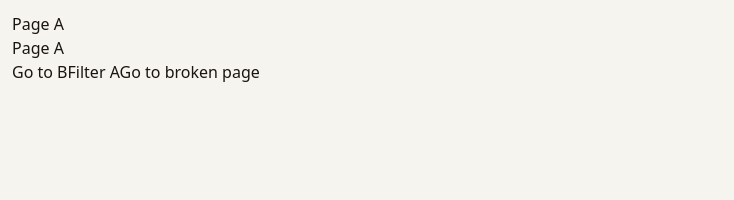
shows a recoverable message when a page crashes and keeps the header
The width and height of the screenshot is (734, 200).
Click the link "Go to broken page" at (190, 72), box [120,61,260,83]
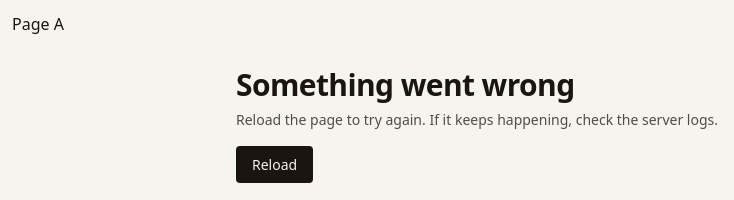
Expected: the navigation bar named "Main" is shown, [12,13,64,35]
Now the message shows "Something went wrong", box [236,64,575,105]
Now the button "Reload" is shown, box [236,146,313,183]
